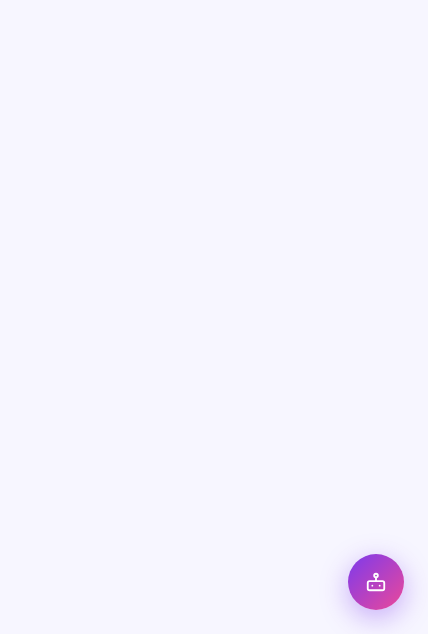
it: in the chat widget › a bot reply with markdown is rendered, not shown raw
Click the button with class "cw-fab" at coordinates (376, 582), box top-left (348, 554), bottom-right (404, 610)
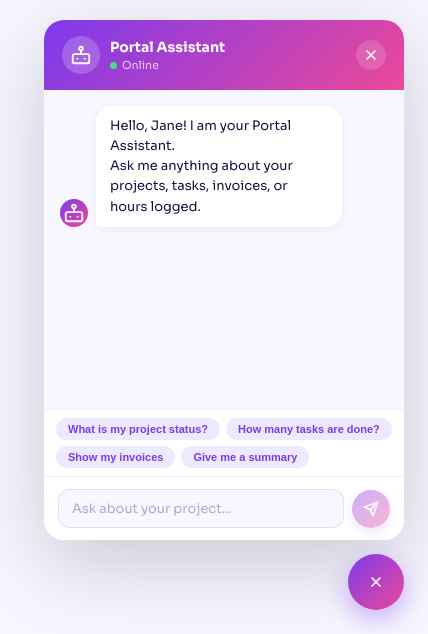
Type "invoices?" into the text box with placeholder "Ask about your project..." at coordinates (201, 508), box top-left (58, 489), bottom-right (344, 528)
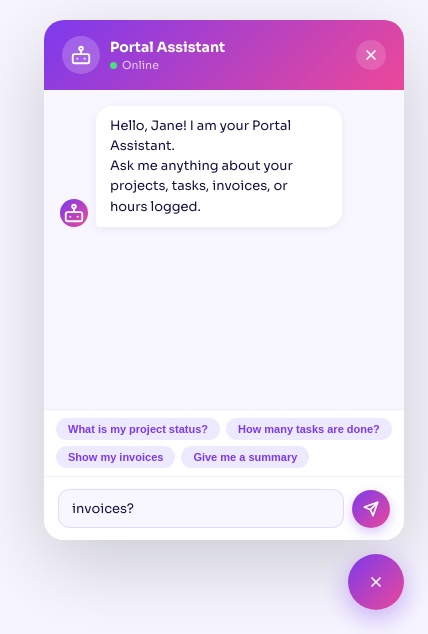
Click the button with class "cw-send-btn" at coordinates (371, 509), box top-left (352, 490), bottom-right (390, 528)
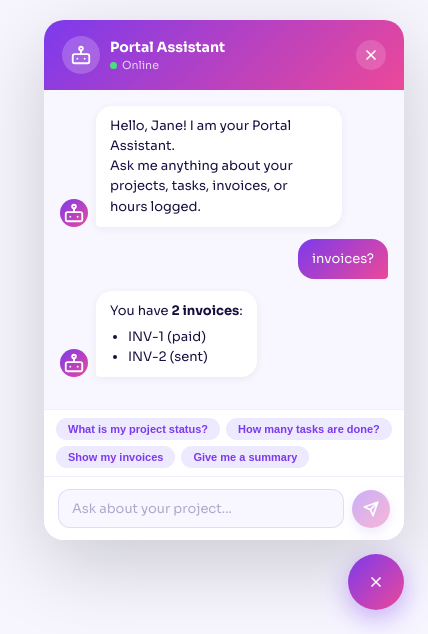
Expected: the number of list items is 2, top-left (128, 328), bottom-right (206, 345); top-left (128, 348), bottom-right (208, 365)
